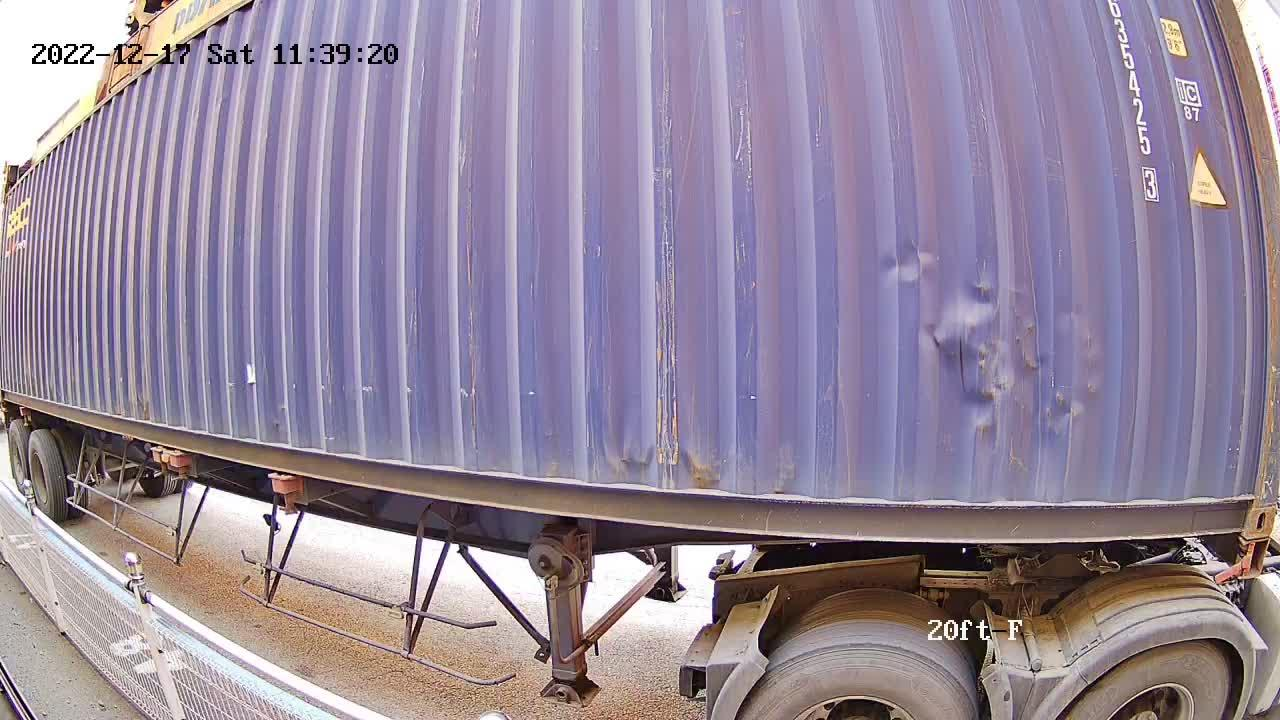Cone: (1224, 540, 1273, 583)
Hole_R: (1205, 472, 1279, 537)
Tire: (741, 646, 978, 718), (1068, 645, 1234, 719)
